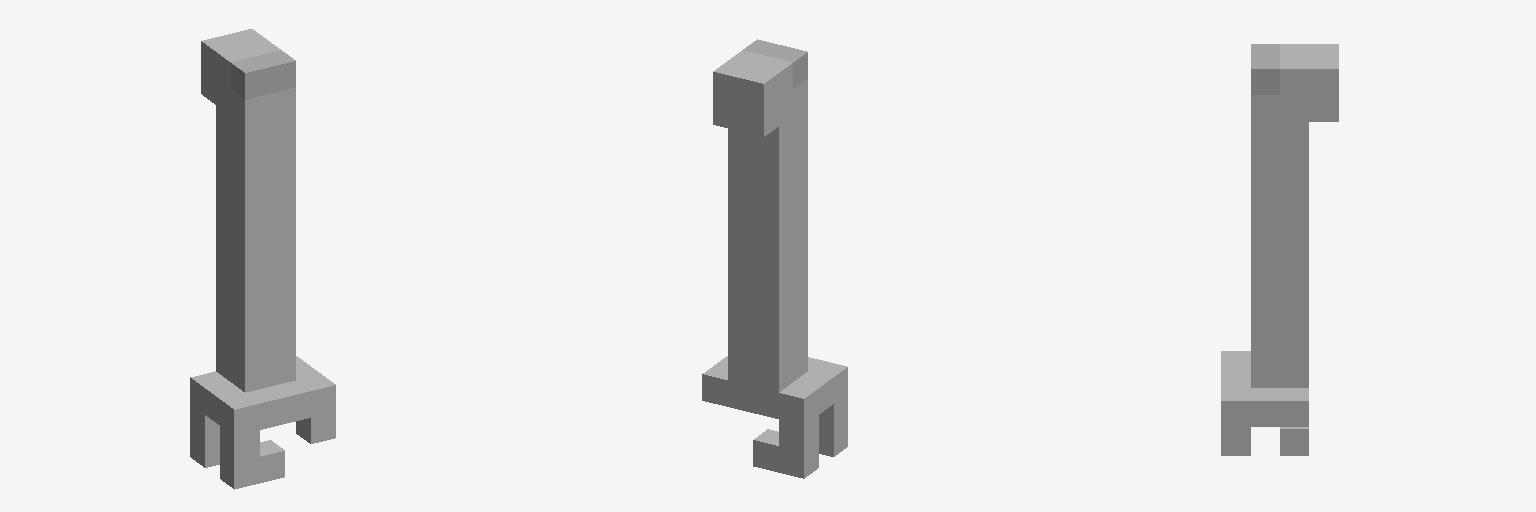
3 renders of one model, left to right at view 1: azimuth 30°, elevation 25°; view 2: azimuth 150°, elevation 25°; view 3: azimuth 270°, elevation 25°, orthographic.
Visible parts, largest first — view 1: object 1; view 2: object 1; view 3: object 1.
Part boxes in pixels (bbox=[...]): object 1: bbox=[190, 29, 335, 489]; object 1: bbox=[702, 39, 847, 478]; object 1: bbox=[1221, 44, 1338, 455].
Size of the model in its own units: 0.4 by 1.5 by 0.4.
1 materials, 1 textured.